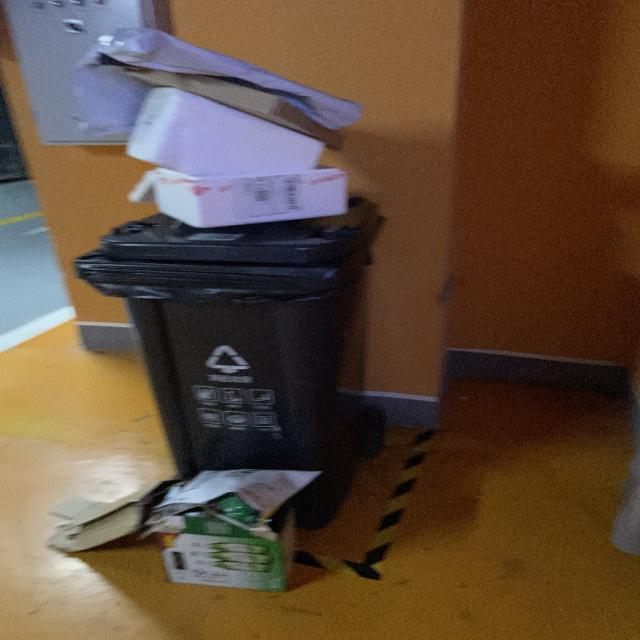garbage: (43, 469, 320, 590)
overflow: (69, 26, 385, 530)
